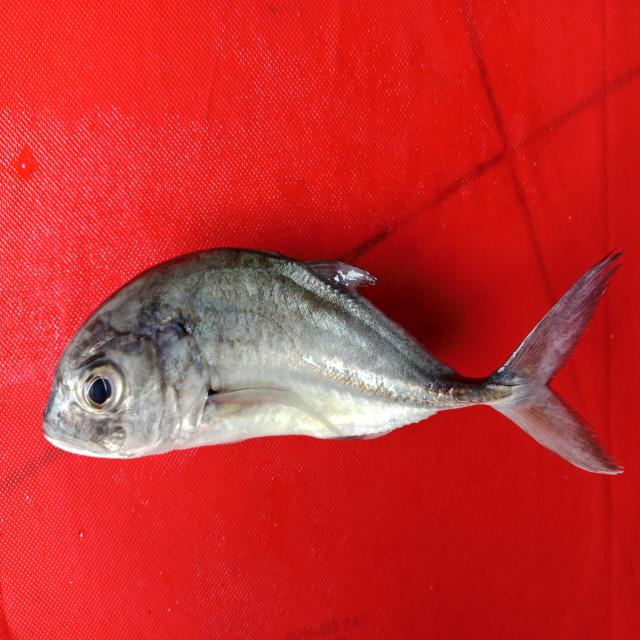ikan: (34, 224, 630, 501)
